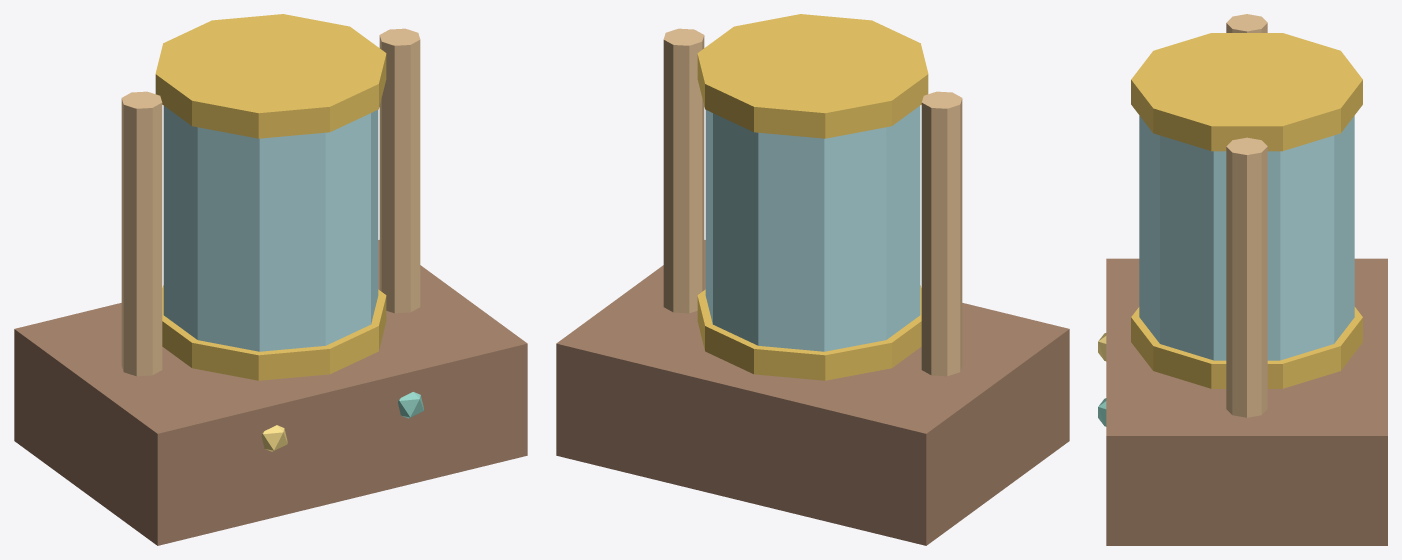
The model's file is facility_breeder.glb.
The picture shows the model from 3 angles, left to right: view 1: azimuth 30°, elevation 25°; view 2: azimuth 150°, elevation 25°; view 3: azimuth 270°, elevation 25°; orthographic projection.
Parts seen in each view (by area): view 1: breeder base, glass chamber, chamber upper ring, support pillar, support pillar.001, chamber lower ring; view 2: breeder base, glass chamber, chamber upper ring, support pillar, support pillar.001, chamber lower ring; view 3: breeder base, glass chamber, chamber upper ring, support pillar.001, chamber lower ring, support pillar.
Boxes of the visible parts, bbox=[...] form: breeder base: bbox=[14, 240, 527, 545]; glass chamber: bbox=[163, 106, 378, 351]; chamber upper ring: bbox=[155, 14, 386, 138]; support pillar: bbox=[121, 91, 162, 376]; support pillar.001: bbox=[379, 28, 420, 313]; chamber lower ring: bbox=[162, 285, 386, 380]; breeder base: bbox=[556, 240, 1069, 545]; glass chamber: bbox=[705, 106, 920, 351]; chamber upper ring: bbox=[697, 14, 928, 138]; support pillar: bbox=[921, 91, 962, 376]; support pillar.001: bbox=[663, 28, 704, 313]; chamber lower ring: bbox=[697, 285, 921, 380]; breeder base: bbox=[1106, 258, 1387, 545]; glass chamber: bbox=[1139, 115, 1354, 360]; chamber upper ring: bbox=[1131, 33, 1362, 151]; support pillar.001: bbox=[1226, 137, 1267, 417]; chamber lower ring: bbox=[1131, 307, 1362, 388]; support pillar: bbox=[1226, 14, 1267, 32].
Size of the model in its own units: 1.52 by 1.51 by 1.05.
